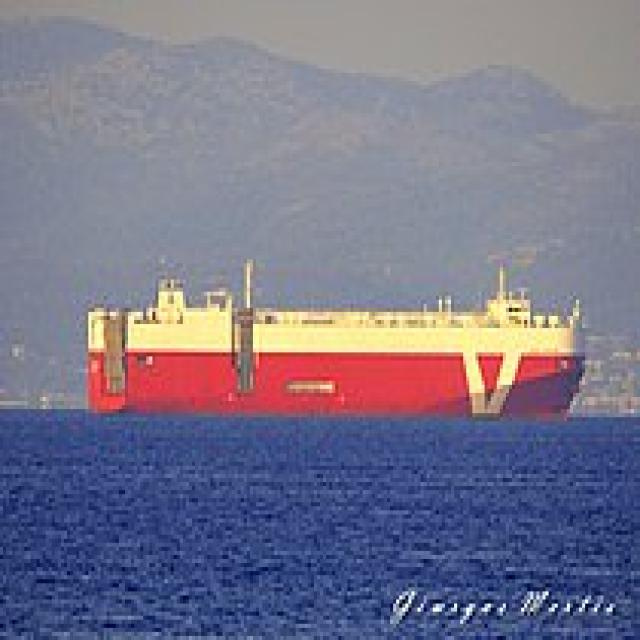Carrier: (82, 247, 585, 421)
